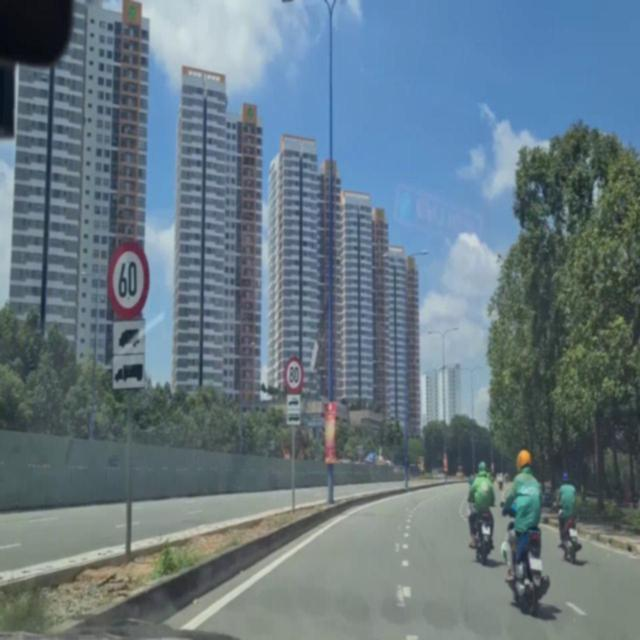Biển phụ: (109, 320, 149, 391), (284, 393, 303, 424)
Giới hạn tốc độ: 60Km/h: (106, 234, 152, 316)
Giới hạn tốc độ: 80Km/h: (281, 352, 305, 392)
